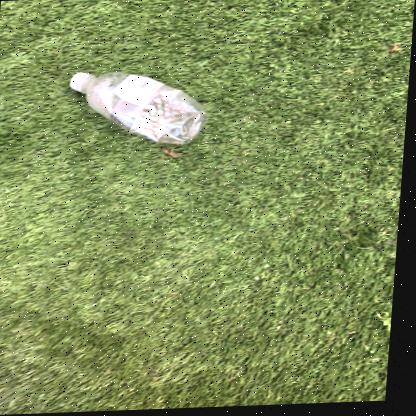Plastic: (71, 71, 209, 144)
